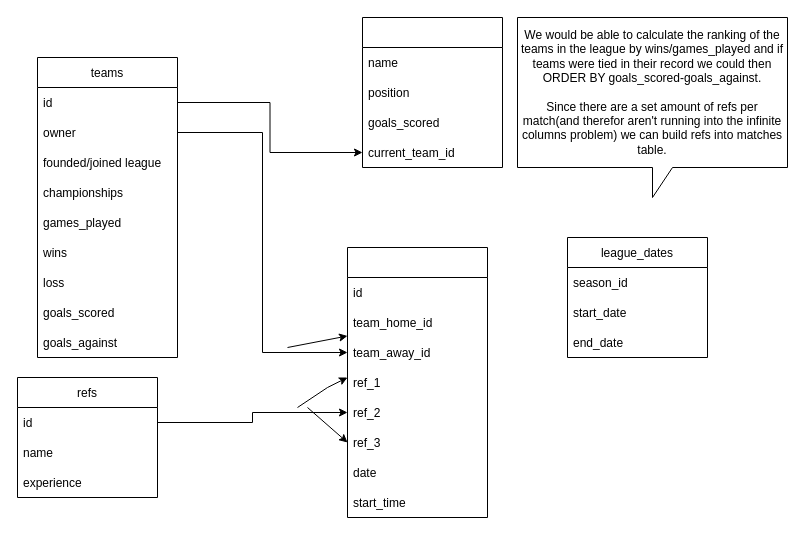
This 805x535 diagram has some shape labels left out. Each missing label, with the box of its shape:
matches: (346, 246, 488, 518)
player: (362, 16, 502, 168)
